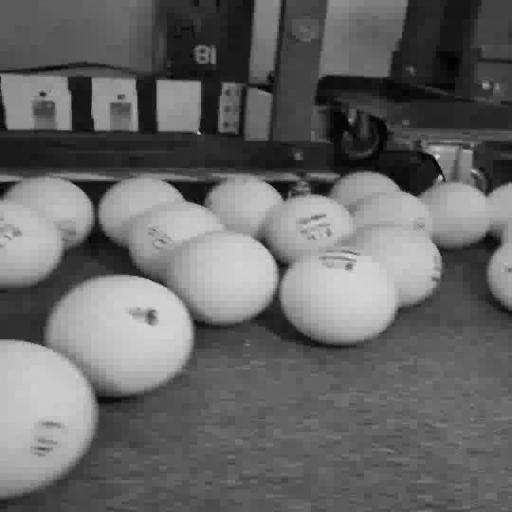fuel: (44, 275, 193, 397), (0, 339, 97, 499), (279, 244, 398, 345), (164, 230, 279, 326), (128, 202, 224, 281), (352, 226, 442, 308), (4, 176, 94, 250), (264, 195, 354, 264), (98, 177, 184, 246), (0, 200, 63, 289), (204, 175, 283, 239), (420, 182, 490, 249), (353, 192, 432, 237), (329, 171, 401, 212), (486, 243, 511, 311), (488, 182, 511, 239), (501, 220, 511, 244)
